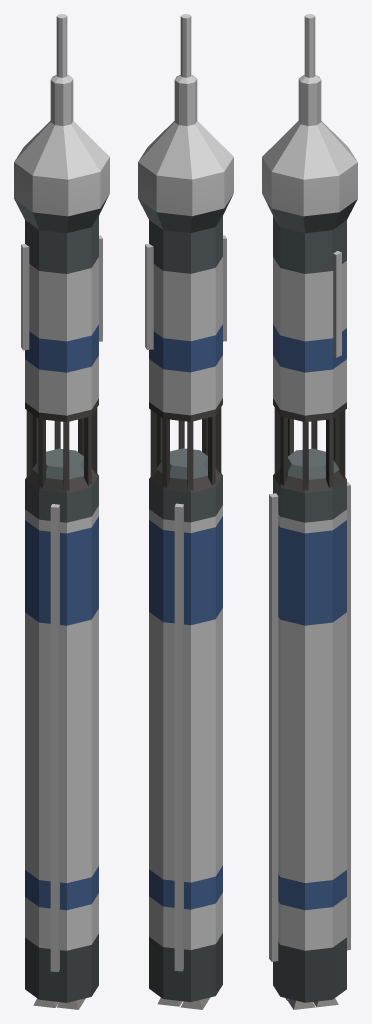
Rendered from SM_Veh_Rocket_12.fbx.
The picture shows the model from 3 angles, left to right: view 1: azimuth 30°, elevation 25°; view 2: azimuth 210°, elevation 25°; view 3: azimuth 330°, elevation 25°; orthographic projection.
Visible parts, largest first — view 1: SM_Veh_Rocket_12; view 2: SM_Veh_Rocket_12; view 3: SM_Veh_Rocket_12.
Boxes of the visible parts, left/top/right/bottom form: SM_Veh_Rocket_12: left=14, top=14, right=109, bottom=1009; SM_Veh_Rocket_12: left=138, top=14, right=233, bottom=1009; SM_Veh_Rocket_12: left=262, top=14, right=357, bottom=1009.
Bounding box in the file's own units: 1.3 × 15.74 × 1.3.
